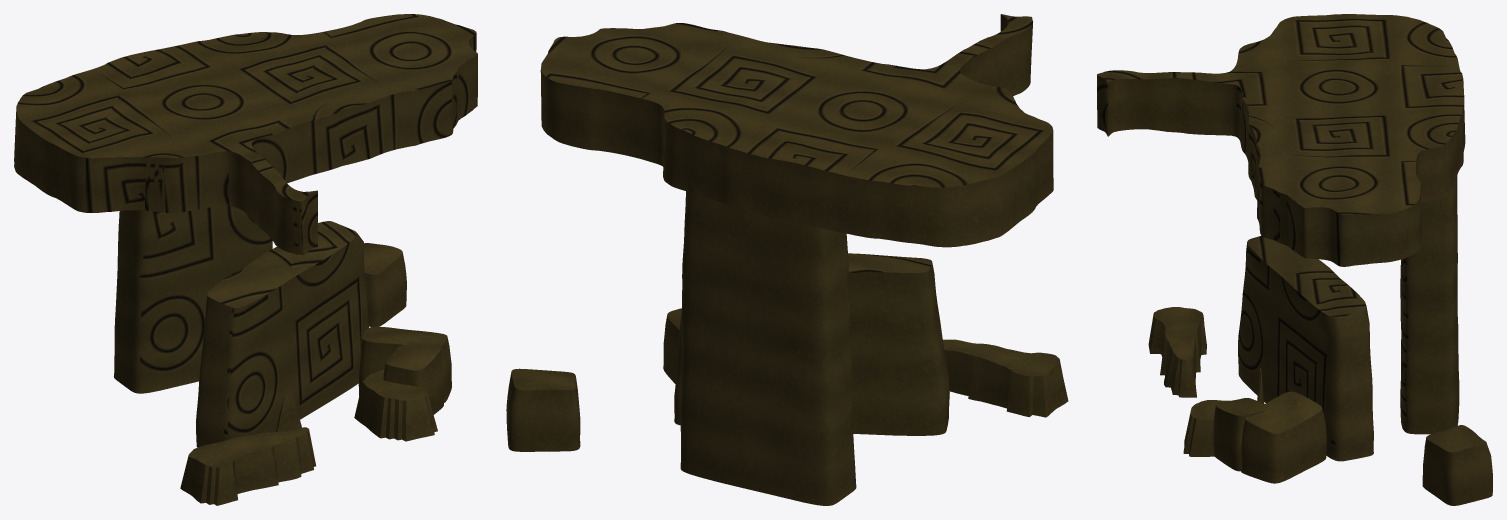
File: CREHenge14.glb
3 renders of one model, left to right at view 1: azimuth 30°, elevation 25°; view 2: azimuth 150°, elevation 25°; view 3: azimuth 270°, elevation 25°, orthographic. The views are drawn at different scales.
Visible parts, largest first — view 1: CREHenge14_cap0; view 2: CREHenge14_cap0; view 3: CREHenge14_cap0.
Part boxes in pixels (bbox=[...]): CREHenge14_cap0: bbox=[14, 14, 477, 505]; CREHenge14_cap0: bbox=[506, 14, 1068, 505]; CREHenge14_cap0: bbox=[1097, 14, 1492, 505].
Bounding box in the file's own units: 4.97 × 3.42 × 4.11.
2 materials, 2 textured.
